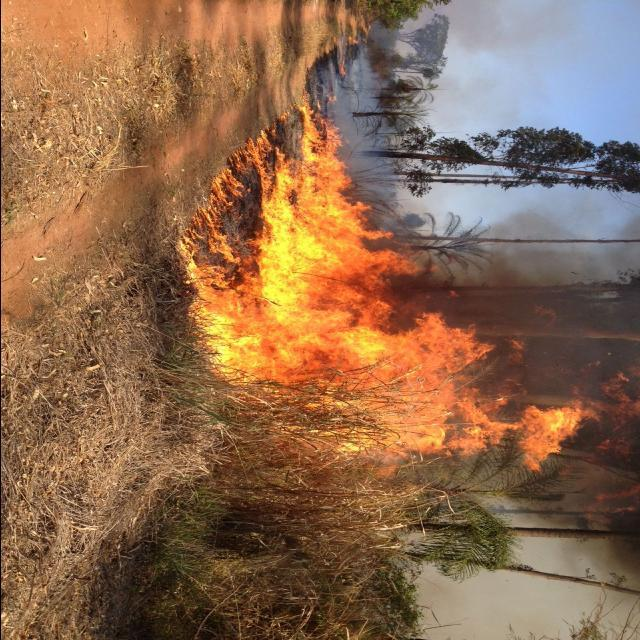Fire: (184, 84, 596, 473)
